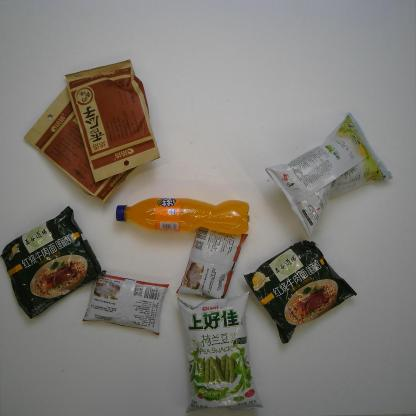Dried Food: (23, 84, 142, 204), (64, 59, 161, 183)
Drink: (116, 198, 250, 235)
Instant Noodles: (0, 206, 107, 320), (243, 240, 357, 344)
Puffed Food: (264, 111, 393, 237), (177, 290, 264, 414)
Seasoner: (82, 272, 169, 336), (176, 226, 249, 300)
